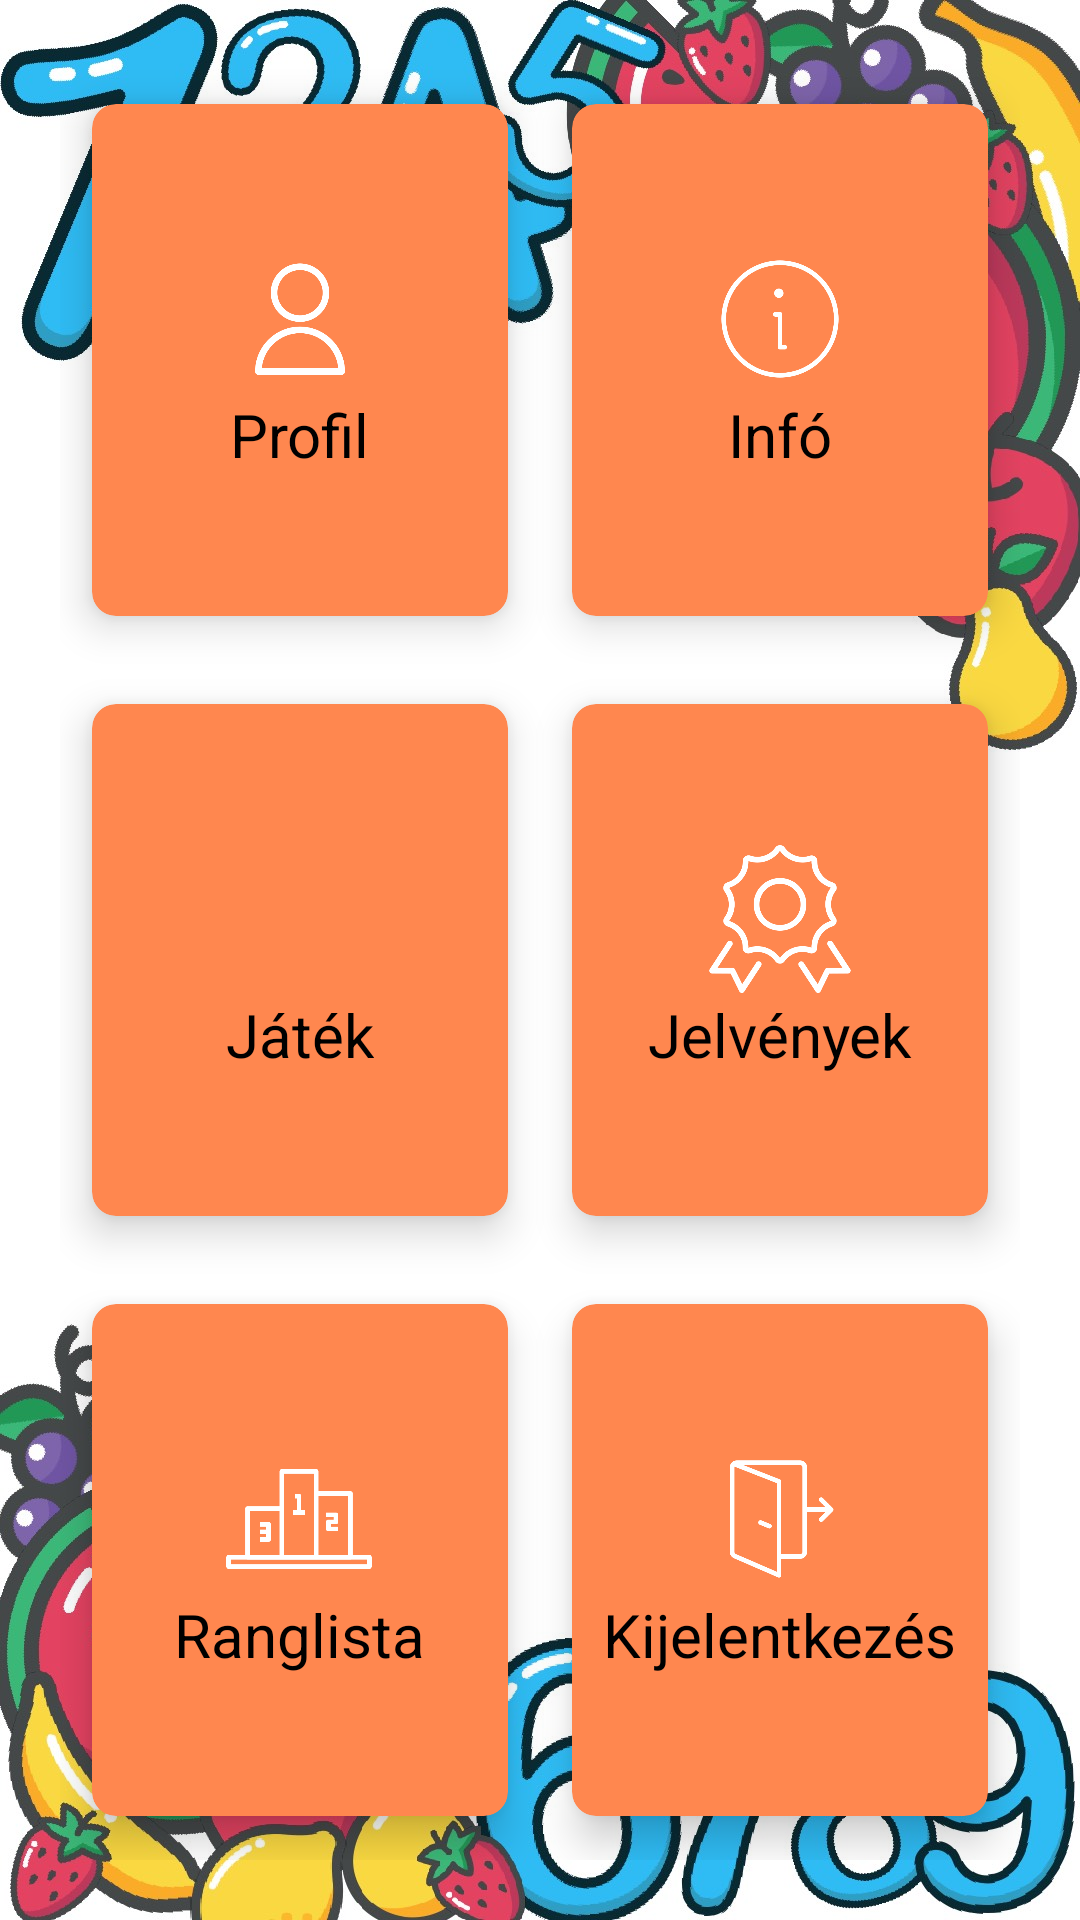

Point at icon controls on the screen. Image size 1080px×1920px, points as (x=x, y=y).
podium: (x=299, y=1519)
